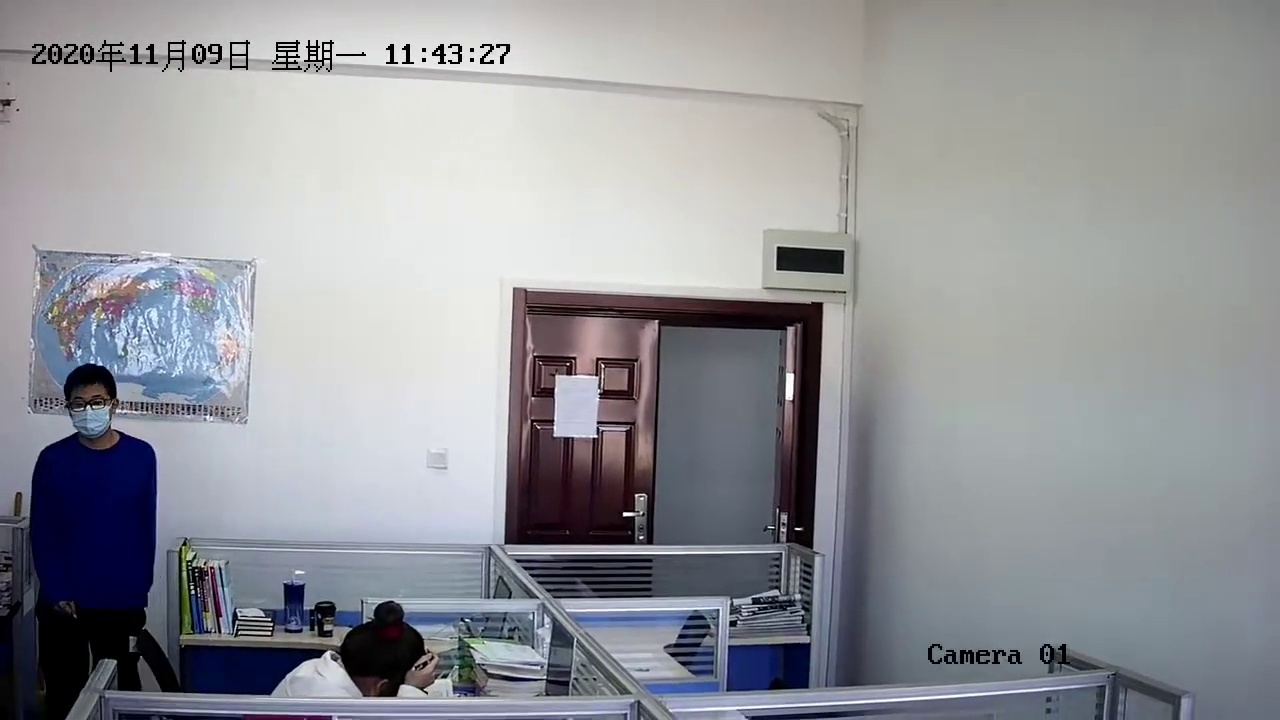mask: (70, 369, 114, 438)
